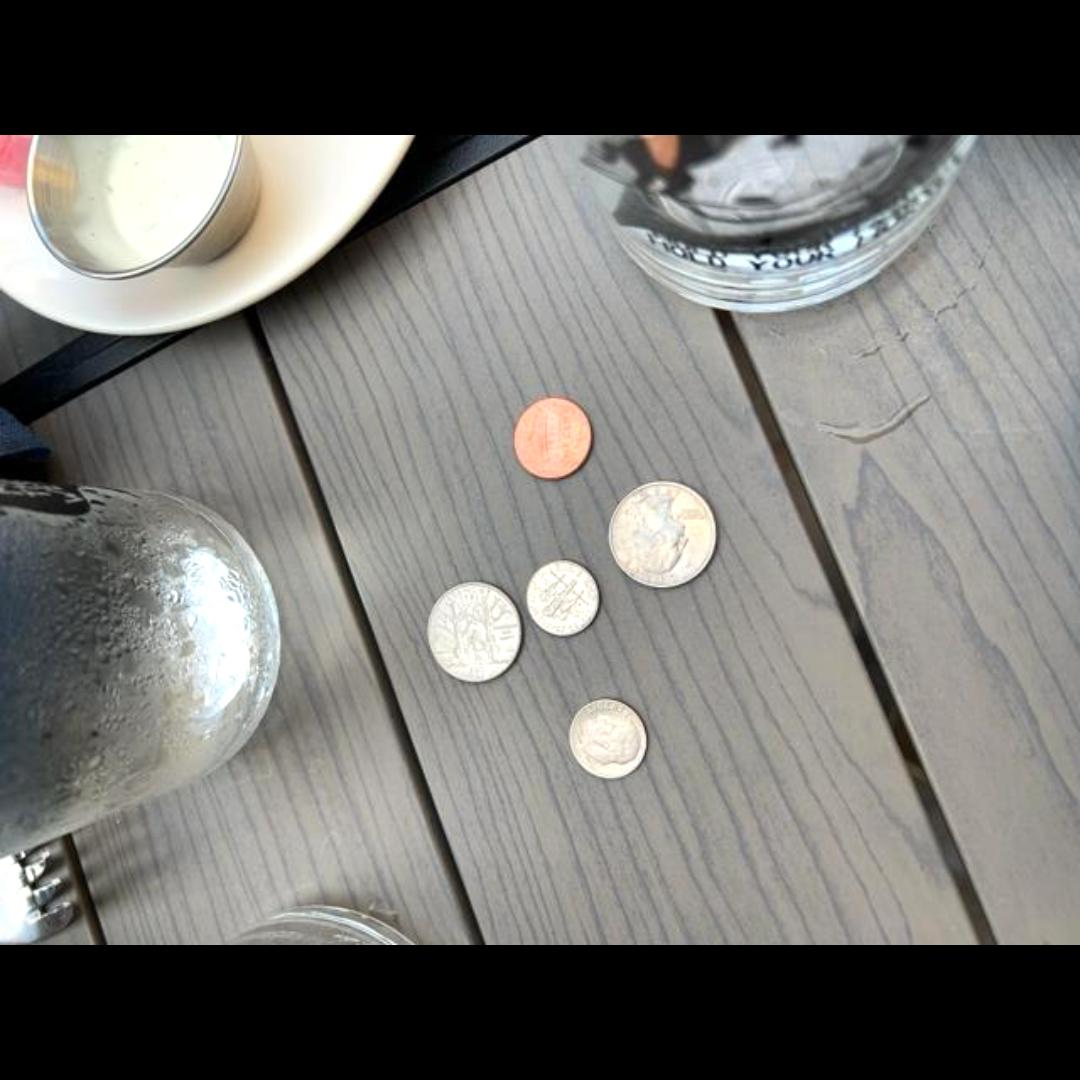Dime: (570, 698, 648, 780), (526, 559, 600, 636)
Penny: (514, 396, 592, 480)
Quarter: (608, 481, 718, 588), (428, 580, 522, 683)
